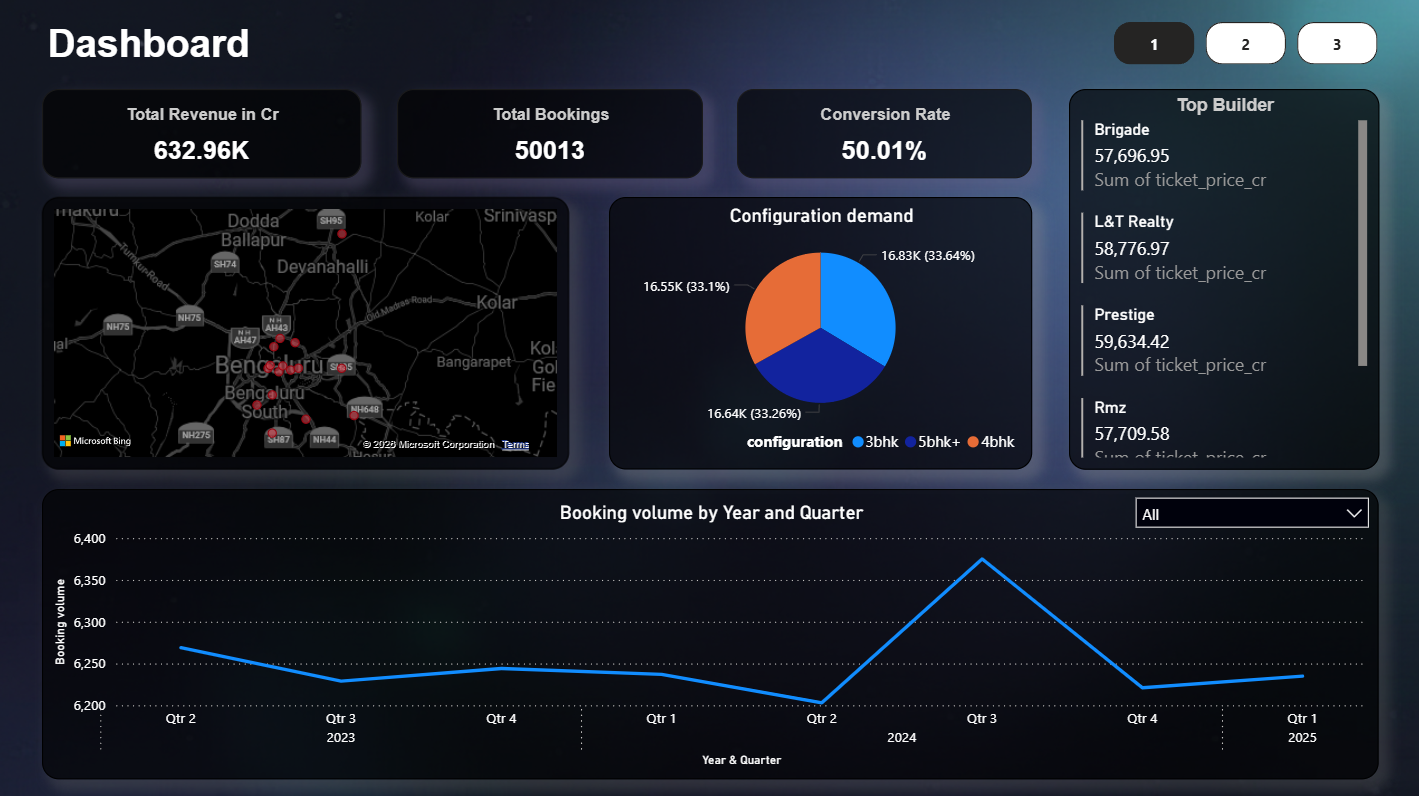

The page's visual inventory and layout, read from the dashboard file:
{"tool":"powerbi","page":{"name":"1","canvas":[1280,720],"ordinal":0},"visuals":[{"type":"lineStackedColumnComboChart","title":"Booking volume by Year and Quarter","fields":{"Category":["Luxury_Housing_Bangalore_cleaned_data_pro.Purchase_Quarter.Variation.Date Hierarchy.Year","Luxury_Housing_Bangalore_cleaned_data_pro.Purchase_Quarter.Variation.Date Hierarchy.Quarter"],"Y2":["CountNonNull(Luxury_Housing_Bangalore_cleaned_data_pro.Transaction_Type)"]},"box":[41.2,445.1,1197.3,259.7],"z":0},{"type":"map","fields":{"Category":["Luxury_Housing_Bangalore_cleaned_data_pro.map address"]},"box":[41.2,183.6,471.9,244.5],"z":1000},{"type":"kpi","title":"Total Revenue in Cr","fields":{"TrendLine":["Luxury_Housing_Bangalore_cleaned_data_pro.Transaction_Type"],"Indicator":["Sum(Luxury_Housing_Bangalore_cleaned_data_pro.Ticket_Price_Cr)"]},"box":[41.2,86.9,285.7,79.7],"z":2000},{"type":"textbox","title":"Dashboard","box":[41.2,26.9,454.9,38.5],"z":3000},{"type":"kpi","title":"Total Bookings","fields":{"TrendLine":["Luxury_Housing_Bangalore_cleaned_data_pro.Transaction_Type"],"Indicator":["CountNonNull(Luxury_Housing_Bangalore_cleaned_data_pro.Transaction_Type)"]},"box":[359.1,86.9,274,79.7],"z":4000},{"type":"kpi","title":"Conversion Rate","fields":{"Indicator":["Luxury_Housing_Bangalore_cleaned_data_pro.Booking_Conversion_Rate"],"TrendLine":["Luxury_Housing_Bangalore_cleaned_data_pro.Transaction_Type"]},"box":[663.6,86.9,264.2,79.7],"z":5000},{"type":"slicer","title":"Micro Market","fields":{"Values":["Luxury_Housing_Bangalore_cleaned_data_pro.Micro_Market"]},"box":[1015.5,447.8,218.5,36.7],"z":6000},{"type":"pieChart","title":"Configuration demand","fields":{"Category":["Luxury_Housing_Bangalore_cleaned_data_pro.Configuration"],"Y":["CountNonNull(Luxury_Housing_Bangalore_cleaned_data_pro.Transaction_Type)"]},"box":[549,183.6,378.8,244.5],"z":7000},{"type":"multiRowCard","title":"Top Builder","fields":{"Values":["Luxury_Housing_Bangalore_cleaned_data_pro.Developer_Name","Sum(Luxury_Housing_Bangalore_cleaned_data_pro.Ticket_Price_Cr)"]},"box":[960.9,86.9,277.6,341.2],"z":8000},{"type":"pageNavigator","box":[1001.2,26.9,237.3,38.5],"z":9000}]}

Visuals, with their boxes in screenshot pixels (x1, y1, x2, y2), scaled from the page's 1280x720 canvas onto the 1419x796 screenshot:
"Booking volume by Year and Quarter" lineStackedColumnComboChart: bbox(46, 492, 1373, 779)
map - Luxury_Housing_Bangalore_cleaned_data_pro.map address: bbox(46, 203, 569, 473)
"Total Revenue in Cr" kpi: bbox(46, 96, 362, 184)
"Dashboard" textbox: bbox(46, 30, 550, 72)
"Total Bookings" kpi: bbox(398, 96, 702, 184)
"Conversion Rate" kpi: bbox(736, 96, 1029, 184)
"Micro Market" slicer: bbox(1126, 495, 1368, 536)
"Configuration demand" pieChart: bbox(609, 203, 1029, 473)
"Top Builder" multiRowCard: bbox(1065, 96, 1373, 473)
pageNavigator: bbox(1110, 30, 1373, 72)
